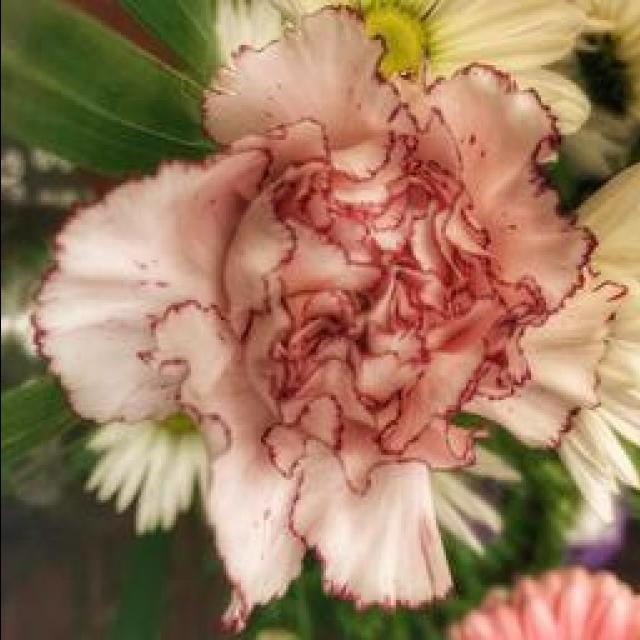carnation: (23, 19, 617, 622)
